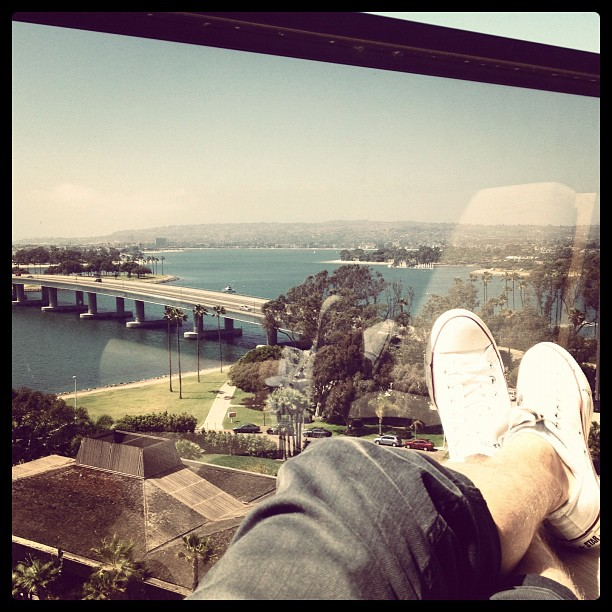bridge: (22, 273, 331, 362)
river: (36, 247, 468, 386)
shoe: (430, 312, 612, 538)
sky: (24, 11, 582, 230)
